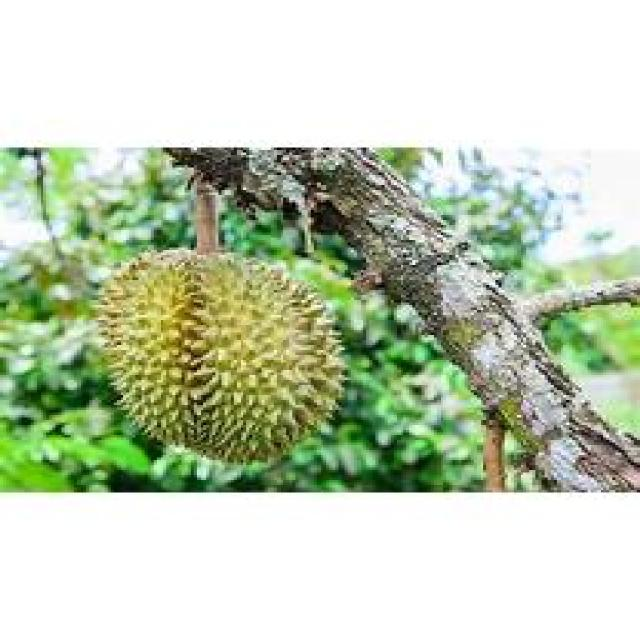non_orange: (89, 238, 354, 470)
